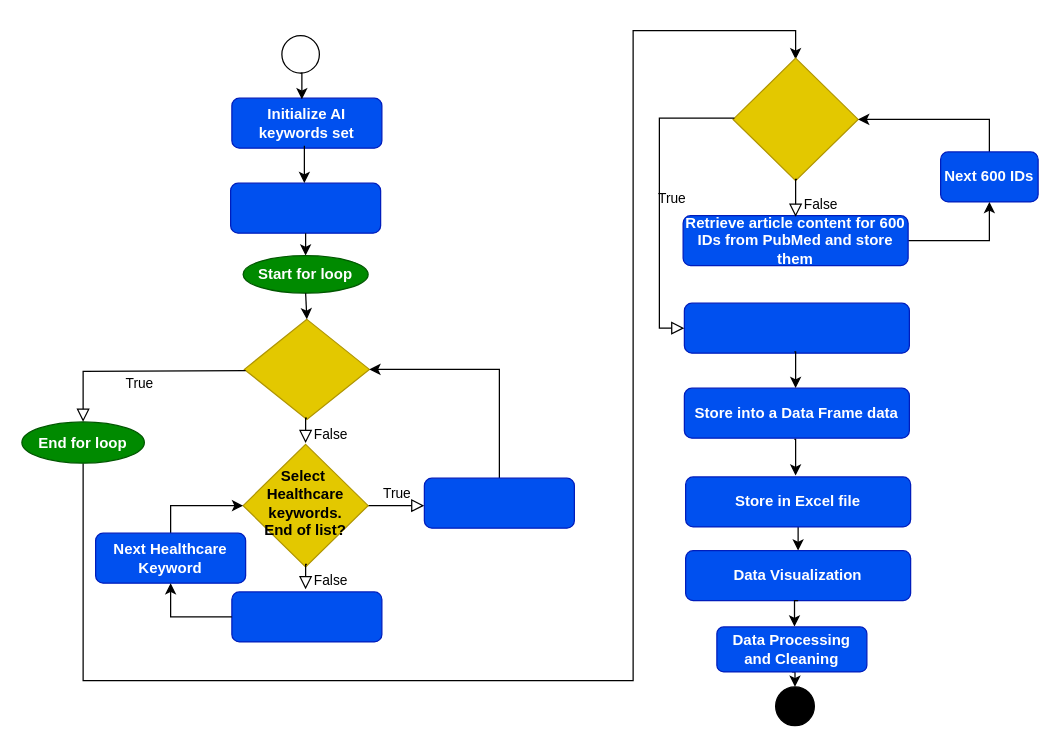
This 1060x748 diagram has some shape labels left out. The centre of each missing label's shape, as x and y in pixels:
Extract IDs from PubMed and store them: (306,616)
Extract Titles, Abstract, Keywords, … from articles contents: (796,327)
Initialize Healthcare keywords set: (305,207)
Next AI Keyword: (498,502)
Select 600 IDs . End of list?: (795,119)
Select AI keywords. End of list?: (306,368)
